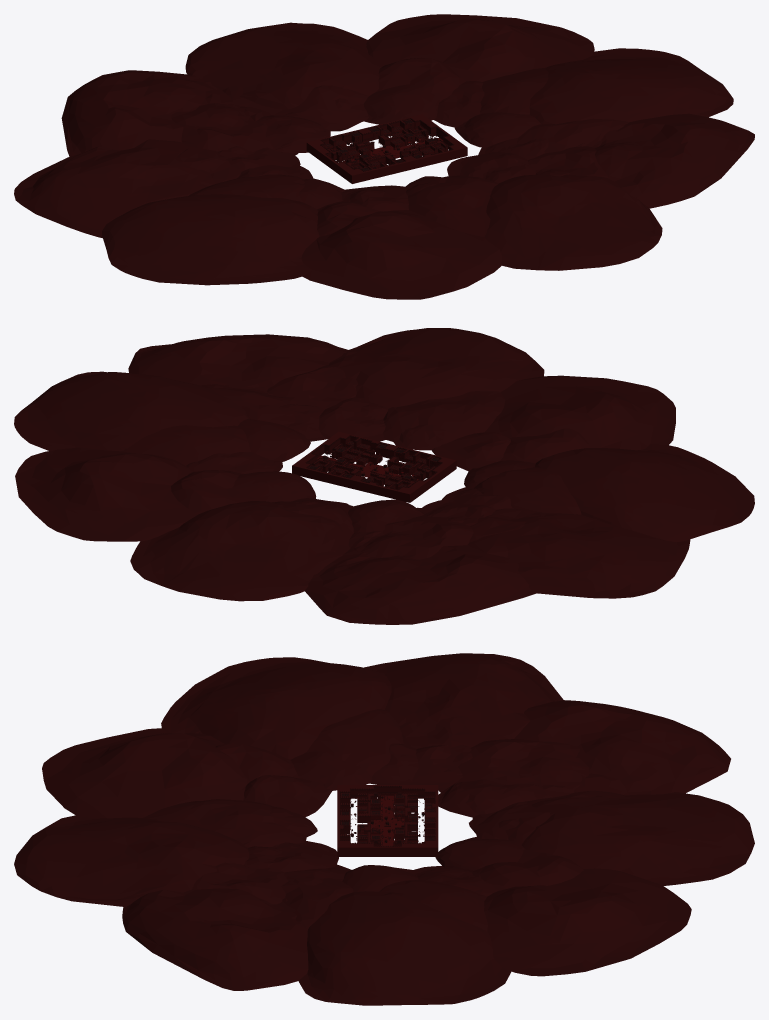
Rendered from deserto.glb.
The picture shows the model from 3 angles, top to bottom: view 1: azimuth 30°, elevation 25°; view 2: azimuth 150°, elevation 25°; view 3: azimuth 270°, elevation 25°; orthographic projection. The views are drawn at different scales.
Visible parts, largest first — view 1: Hill_01_1366, Hill_04_1364, Hill_05_1365, Hill_04_1369, Hill_01_1371, Hill_02_1367, Hill_05_1370, Hill_03_1363, Hill_03_1368, Hill_03_1359, Hill_04_1355, Hill_04_1360 (+18 smaller); view 2: Hill_04_1369, Hill_01_1366, Hill_05_1370, Hill_03_1368, Hill_01_1371, Hill_02_1367, Hill_04_1364, Hill_05_1365, Hill_03_1363, Hill_04_1355, Hill_03_1359, Hill_01_1362 (+19 smaller); view 3: Hill_01_1371, Hill_05_1370, Hill_04_1369, Hill_04_1364, Hill_01_1366, Hill_03_1363, Hill_05_1365, Hill_03_1368, Hill_02_1367, Hill_03_1359, Hill_04_1355, Hill_01_1357 (+19 smaller).
Boxes of the visible parts, x1=… form: Hill_01_1366: x1=102, y1=194, x2=319, y2=285; Hill_04_1364: x1=484, y1=174, x2=662, y2=270; Hill_05_1365: x1=301, y1=210, x2=501, y2=299; Hill_04_1369: x1=185, y1=22, x2=382, y2=109; Hill_01_1371: x1=529, y1=48, x2=733, y2=124; Hill_02_1367: x1=14, y1=139, x2=210, y2=238; Hill_05_1370: x1=366, y1=14, x2=594, y2=81; Hill_03_1363: x1=577, y1=113, x2=754, y2=208; Hill_03_1368: x1=61, y1=70, x2=241, y2=156; Hill_03_1359: x1=171, y1=103, x2=298, y2=155; Hill_04_1355: x1=408, y1=175, x2=498, y2=236; Hill_04_1360: x1=222, y1=85, x2=368, y2=131; Hill_04_1369: x1=130, y1=501, x2=342, y2=601; Hill_01_1366: x1=535, y1=444, x2=754, y2=542; Hill_05_1370: x1=15, y1=447, x2=197, y2=541; Hill_03_1368: x1=305, y1=545, x2=536, y2=624; Hill_01_1371: x1=14, y1=371, x2=248, y2=451; Hill_02_1367: x1=467, y1=513, x2=690, y2=598; Hill_04_1364: x1=329, y1=328, x2=544, y2=408; Hill_05_1365: x1=485, y1=375, x2=675, y2=450; Hill_03_1363: x1=128, y1=334, x2=347, y2=395; Hill_04_1355: x1=382, y1=390, x2=504, y2=441; Hill_03_1359: x1=348, y1=507, x2=473, y2=559; Hill_01_1362: x1=122, y1=425, x2=250, y2=465; Hill_01_1371: x1=298, y1=891, x2=511, y2=1005; Hill_05_1370: x1=484, y1=868, x2=691, y2=976; Hill_04_1369: x1=521, y1=792, x2=754, y2=885; Hill_04_1364: x1=14, y1=815, x2=249, y2=906; Hill_01_1366: x1=161, y1=657, x2=391, y2=759; Hill_03_1363: x1=122, y1=888, x2=308, y2=990; Hill_05_1365: x1=42, y1=728, x2=247, y2=818; Hill_03_1368: x1=514, y1=700, x2=730, y2=795; Hill_02_1367: x1=364, y1=653, x2=563, y2=739; Hill_03_1359: x1=438, y1=739, x2=589, y2=799; Hill_04_1355: x1=143, y1=799, x2=306, y2=847; Hill_01_1357: x1=306, y1=709, x2=403, y2=776.
Bounding box in the file's own units: 618 × 22.85 × 550.
Materials: 1 (1 with a texture image).
